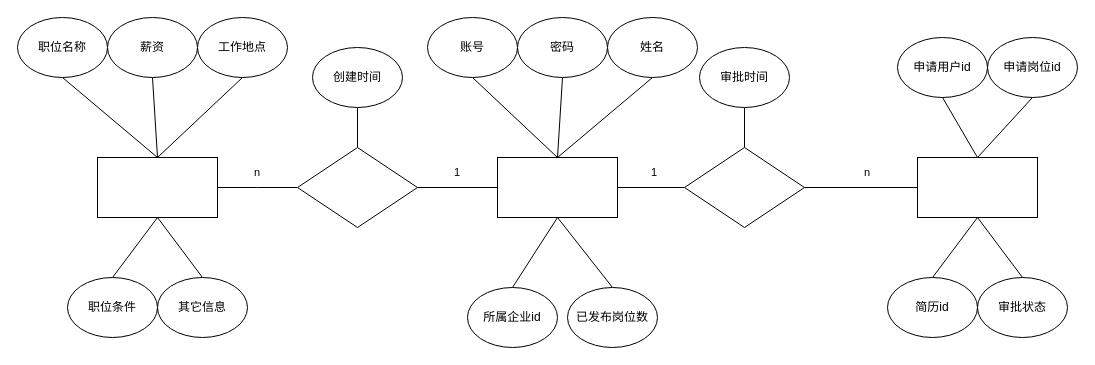
Image size: 1095x365. Some labels were removed from this diagram. The centre of each missing label's shape, as x and y in pixels:
企业HR: [557,187]
创建: [357,187]
审批: [744,187]
申请信息: [977,187]
职位信息: [157,187]
